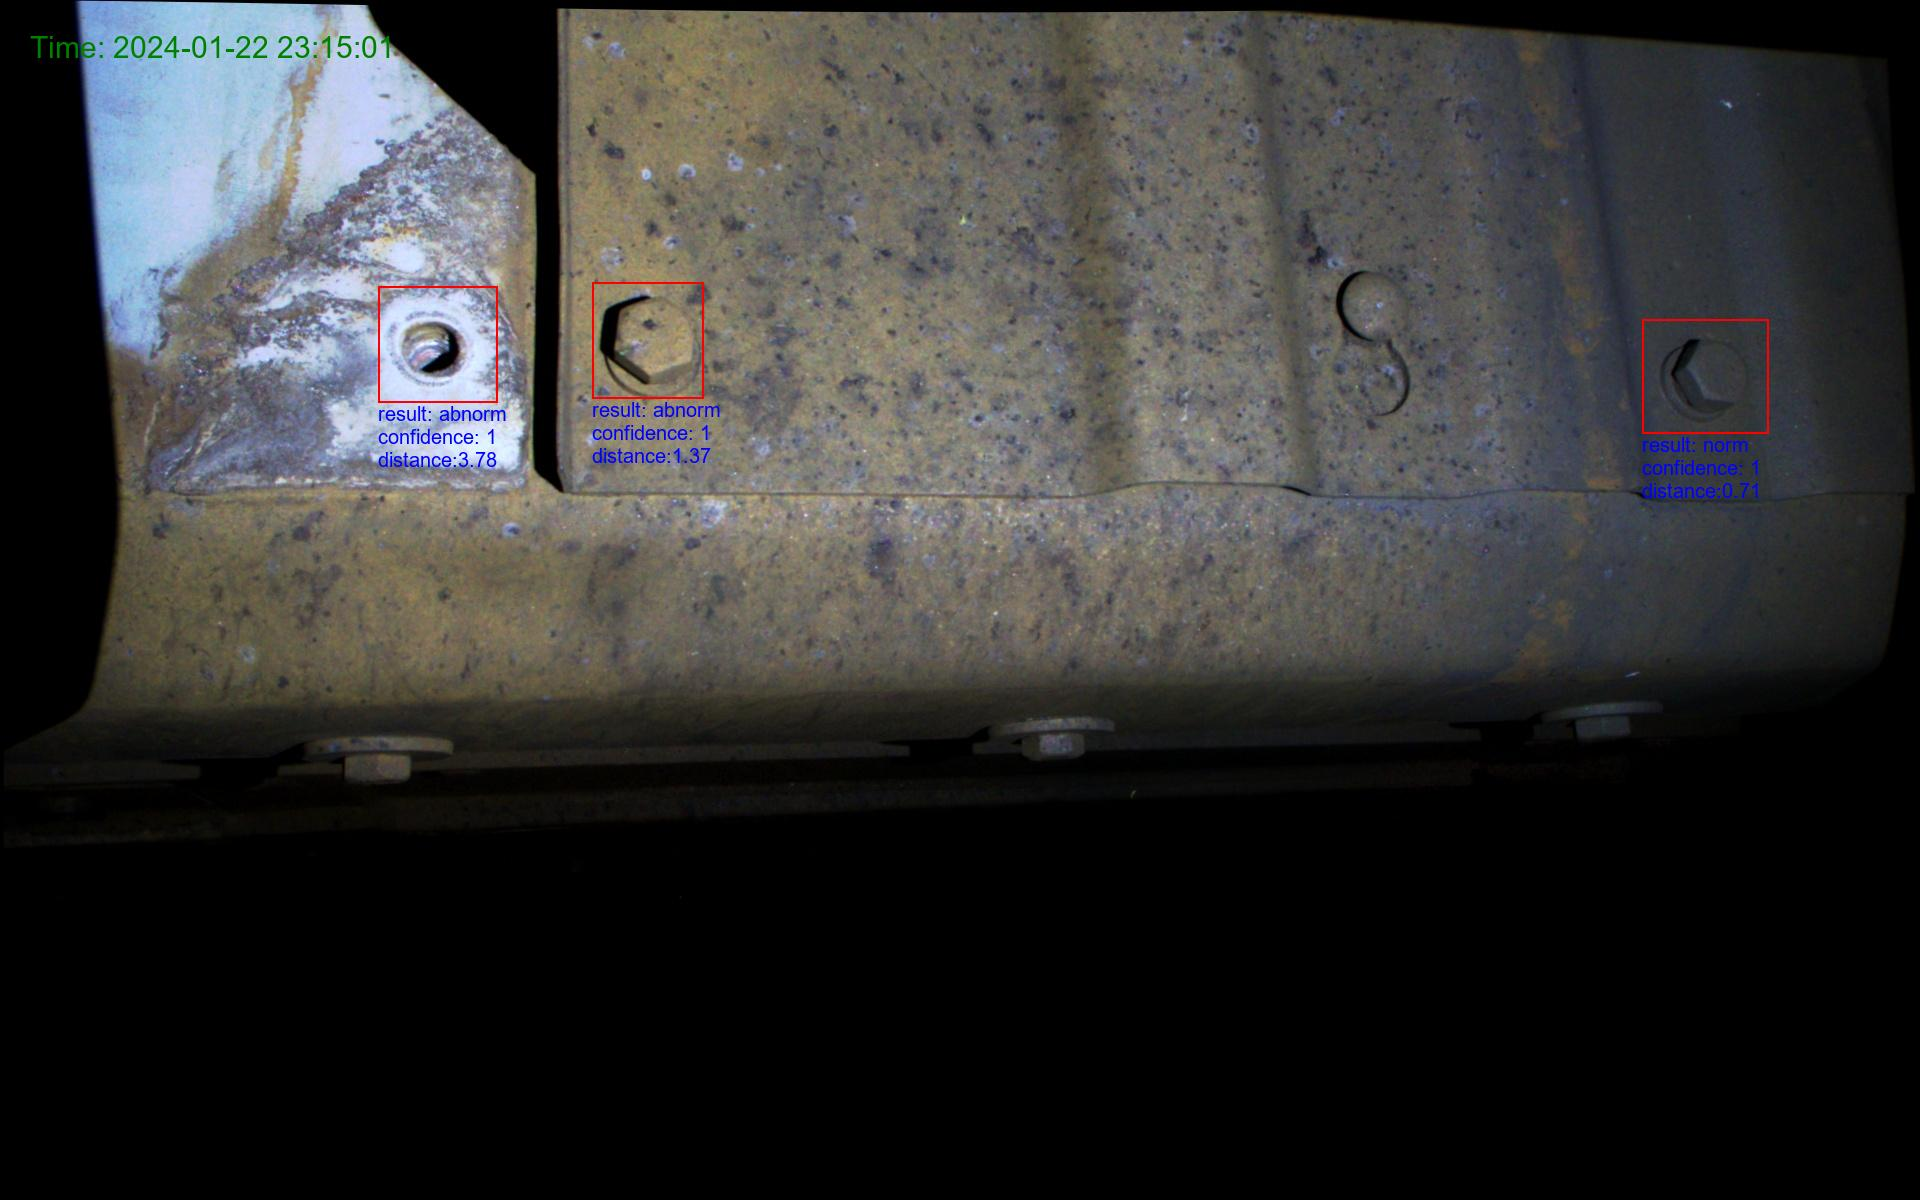BoltHead1: (388, 296, 487, 393)
BoltHead2: (603, 292, 693, 388)
BoltHead3: (1652, 329, 1758, 423)
